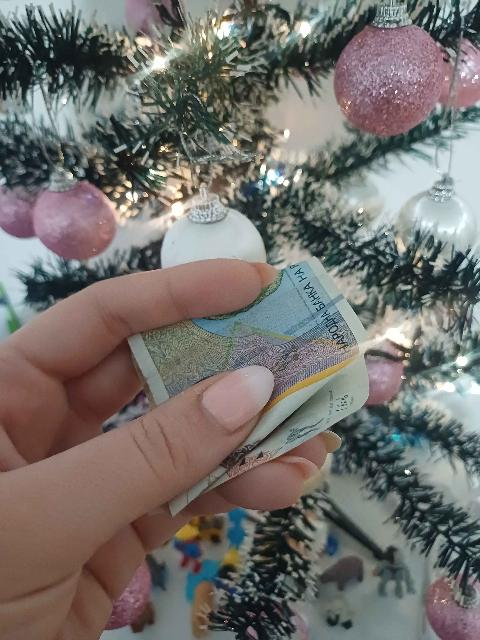50_note: (132, 260, 379, 482)
